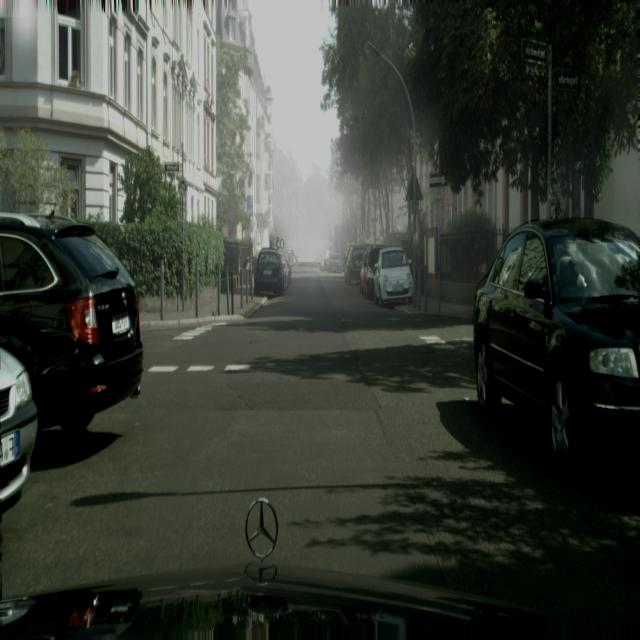person: (472, 217, 640, 478), (0, 211, 144, 439), (0, 344, 39, 514), (373, 246, 413, 308), (254, 248, 286, 297), (359, 245, 384, 299), (344, 246, 368, 286), (278, 251, 292, 288), (324, 251, 341, 272)
